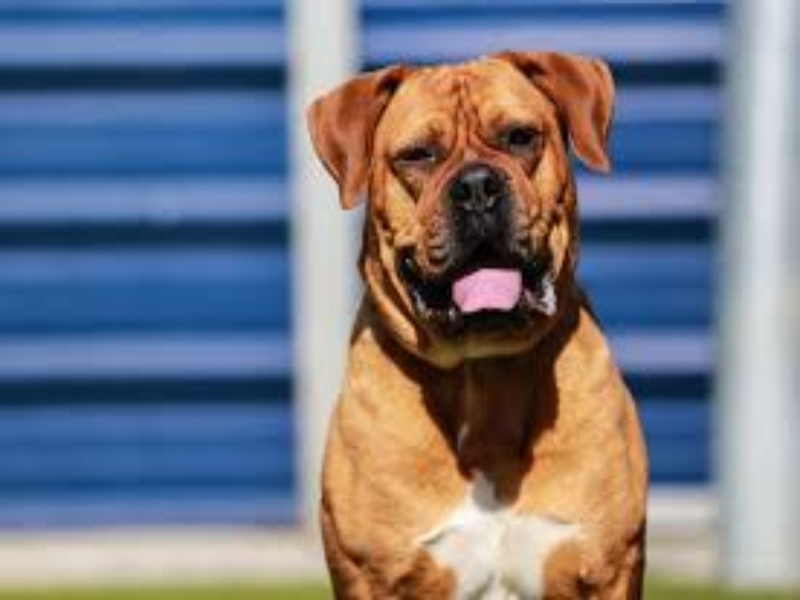dog: (293, 49, 666, 600)
